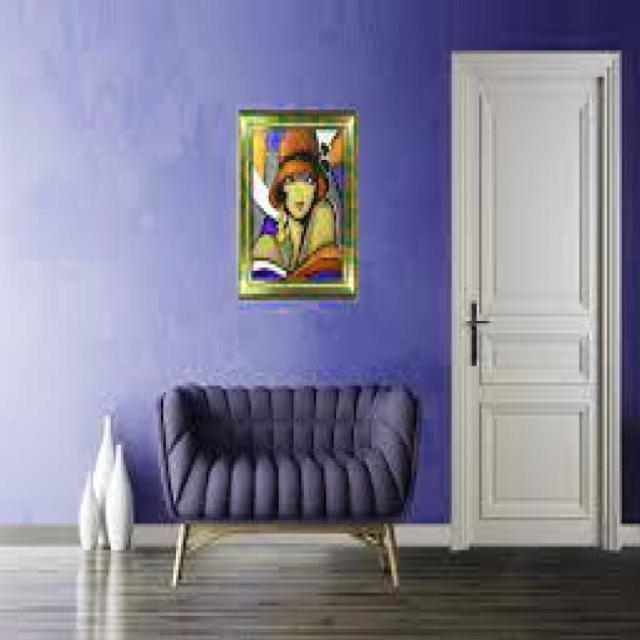door: (450, 49, 616, 550)
